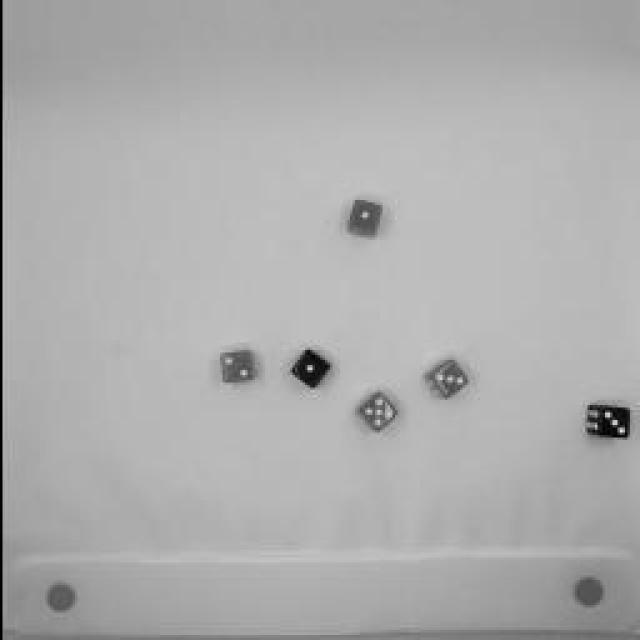dice_1: (285, 345, 340, 393), (343, 195, 385, 245)
dice_2: (210, 344, 258, 386)
dice_3: (416, 354, 472, 406), (581, 396, 631, 444)
dice_5: (348, 385, 402, 440)
